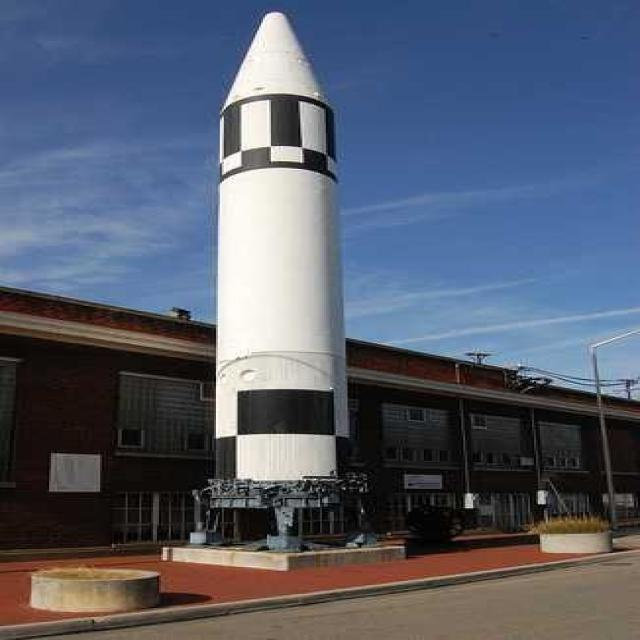missile: (206, 11, 366, 516)
